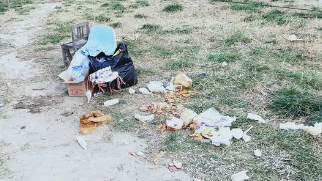garbage: (61, 25, 144, 95), (184, 110, 246, 148), (73, 101, 119, 144), (142, 84, 199, 107), (276, 112, 322, 139), (162, 108, 193, 135), (157, 72, 199, 90), (131, 109, 166, 130), (241, 113, 267, 127), (224, 166, 248, 181)
